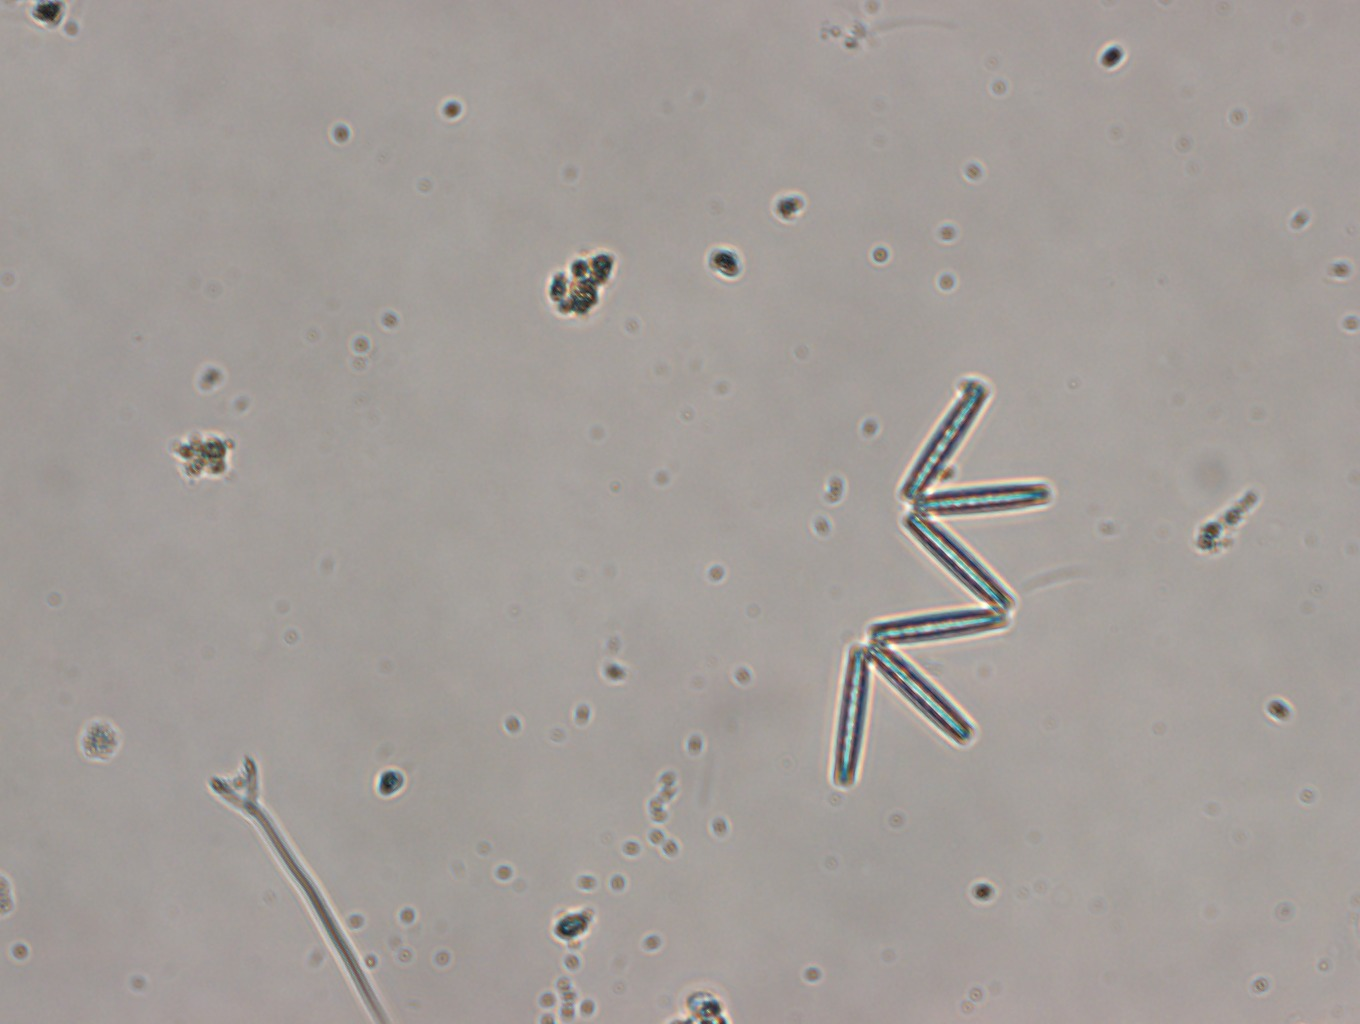thalassionema nitzschioides: (829, 375, 1058, 795)
